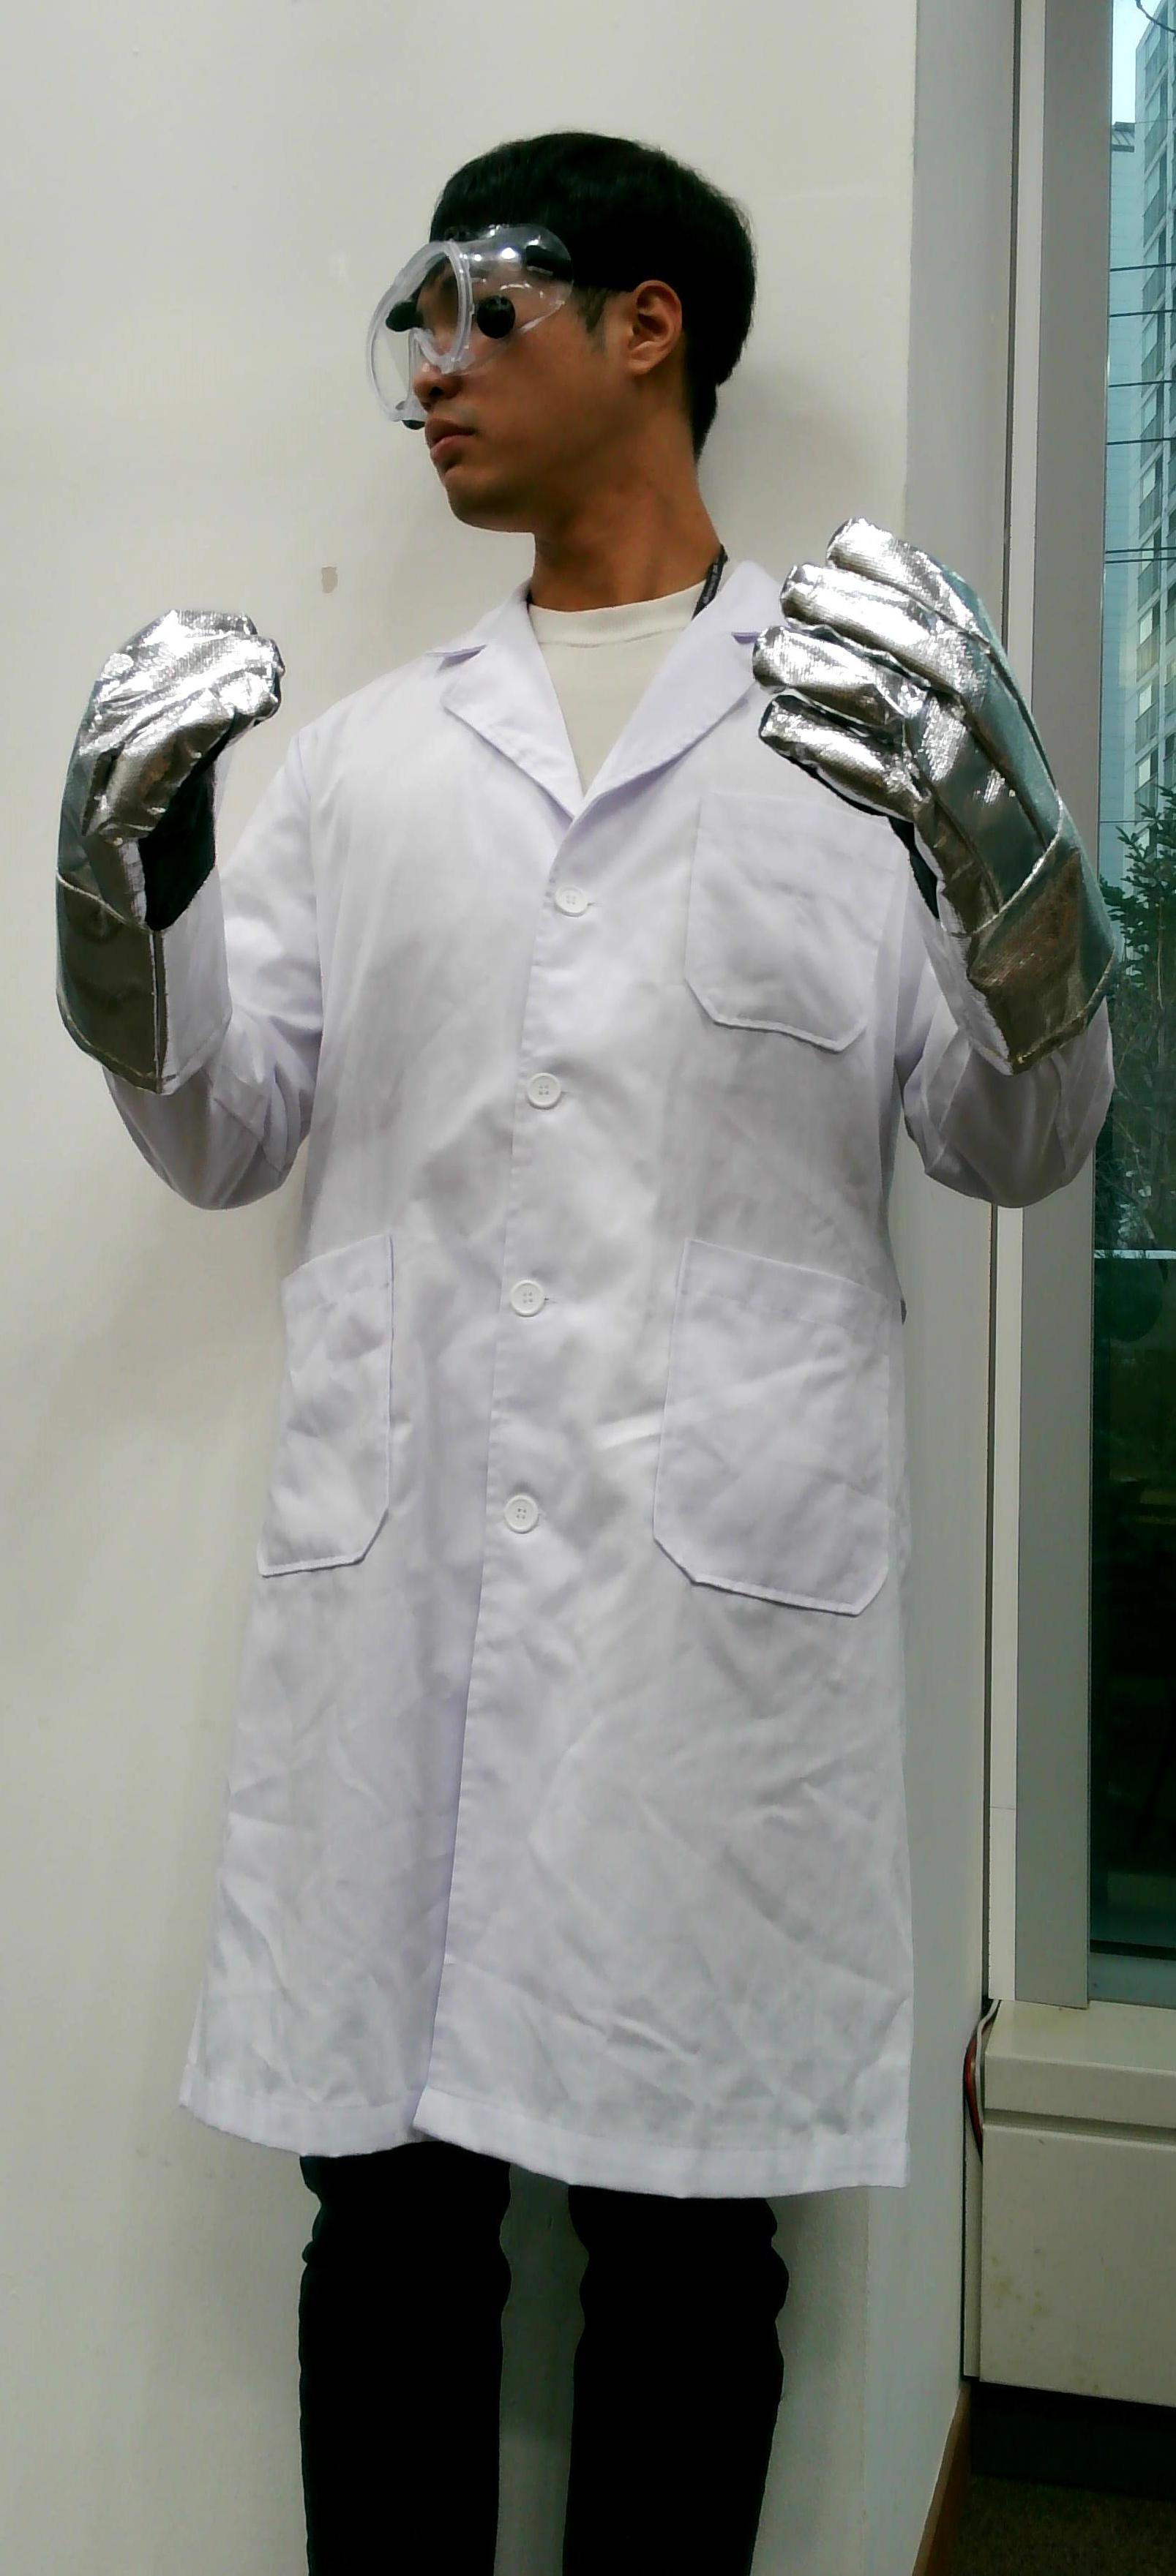lab_coat: (258, 748, 905, 2165)
